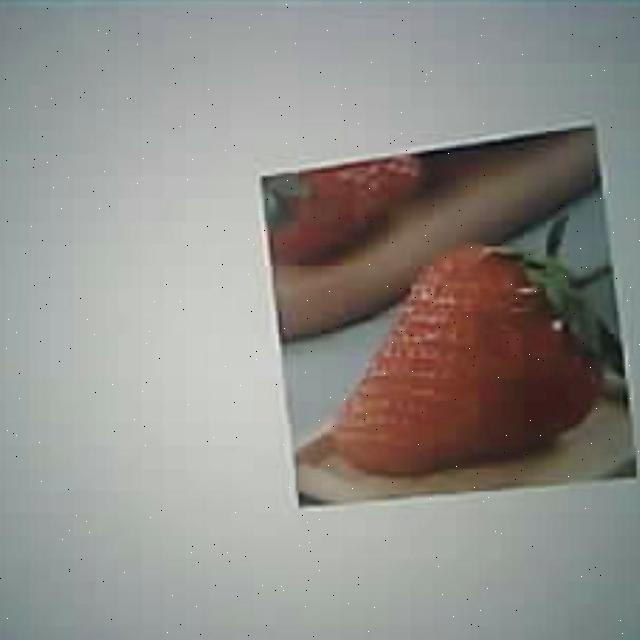ripe: (341, 246, 597, 466)
